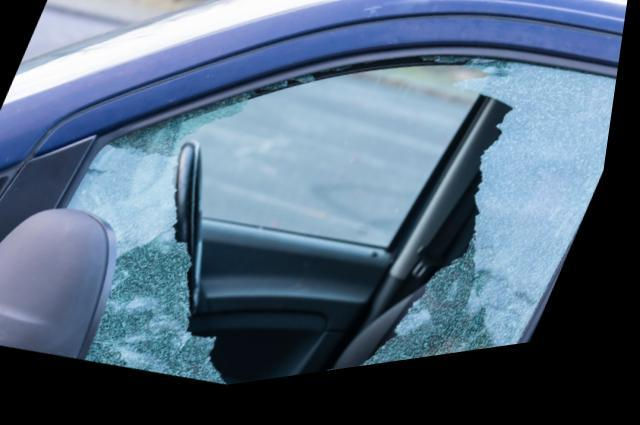glass shatter: (73, 67, 621, 393)
